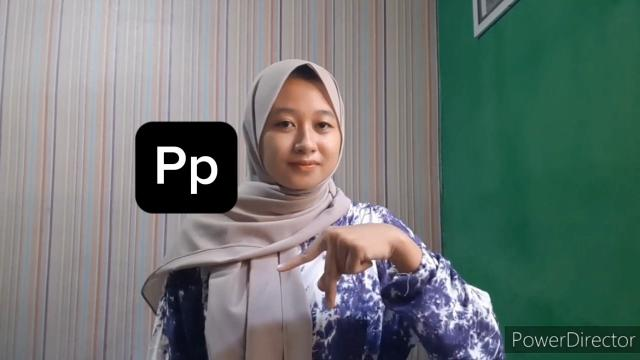Q: (274, 223, 394, 311)
